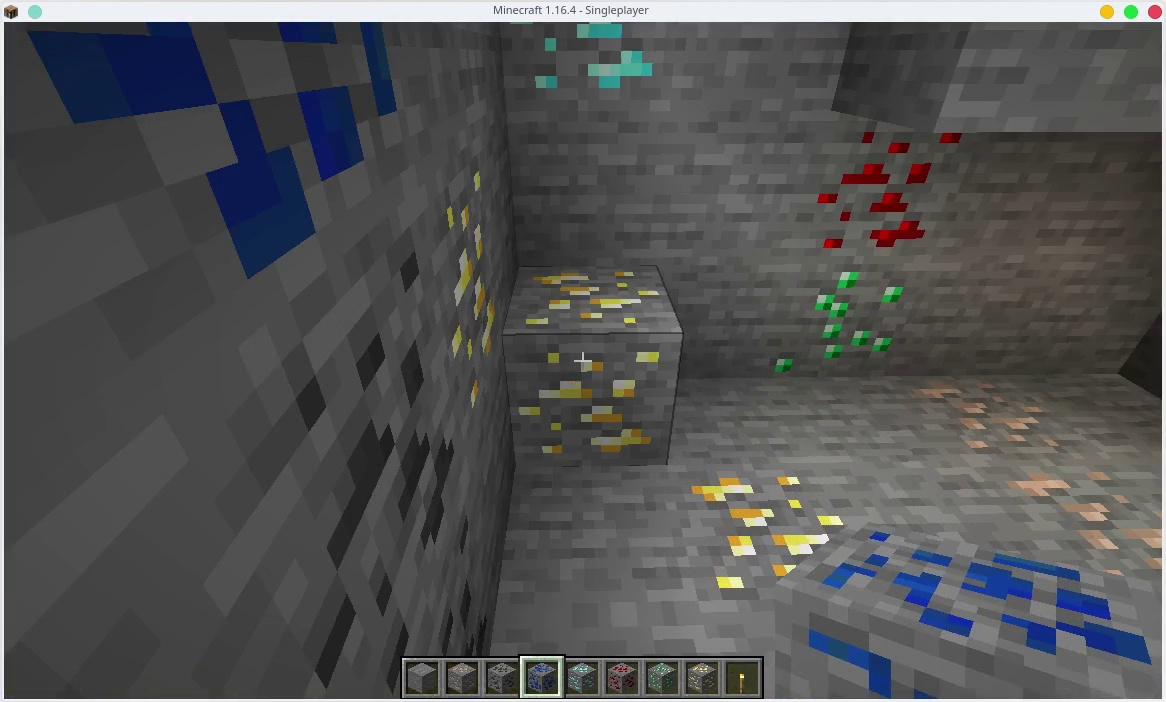gold: (518, 267, 668, 472), (670, 477, 845, 554), (440, 183, 495, 411), (684, 662, 721, 696)
